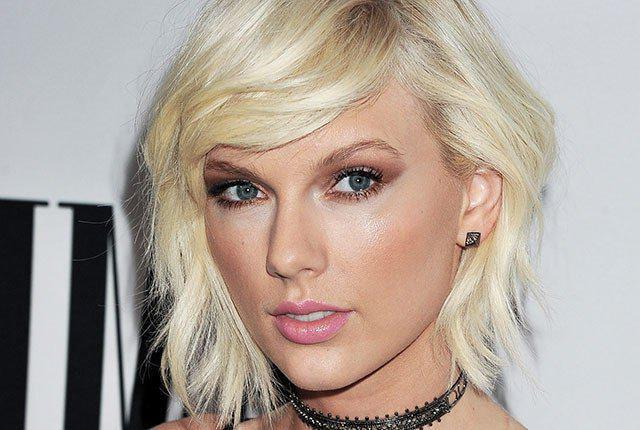Sober: (201, 131, 443, 372)
